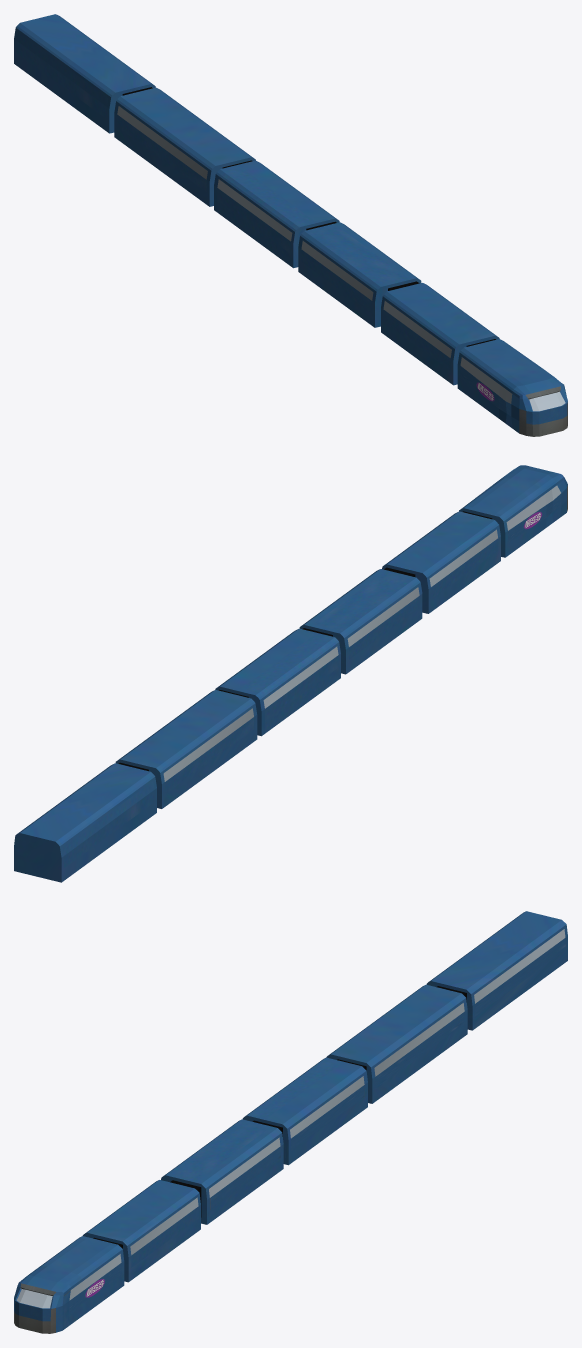
The model's file is metro.fbx.
3 renders of one model, top to bottom at view 1: azimuth 30°, elevation 25°; view 2: azimuth 150°, elevation 25°; view 3: azimuth 330°, elevation 25°, orthographic.
Parts seen in each view (by area): view 1: Cube; view 2: Cube; view 3: Cube.
Part boxes in pixels (x1,y1,x2,y2): Cube: (14,14,567,436); Cube: (14,465,567,882); Cube: (14,911,567,1333).
Size of the model in its own units: 1857 by 1471 by 33766.
